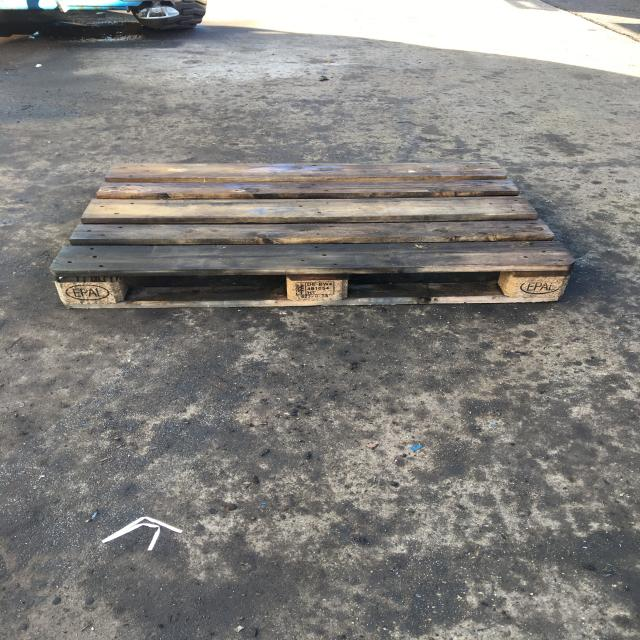block: (47, 271, 130, 306), (506, 268, 578, 306), (281, 273, 350, 306)
front: (44, 264, 578, 312)
